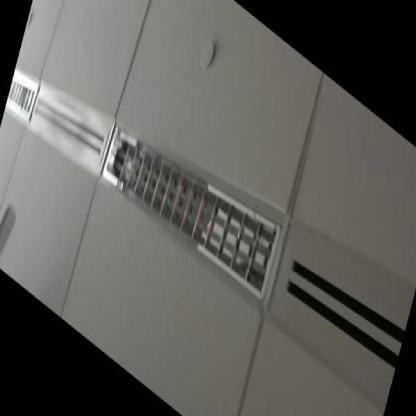light_off: (91, 72, 297, 339), (1, 53, 49, 145)
